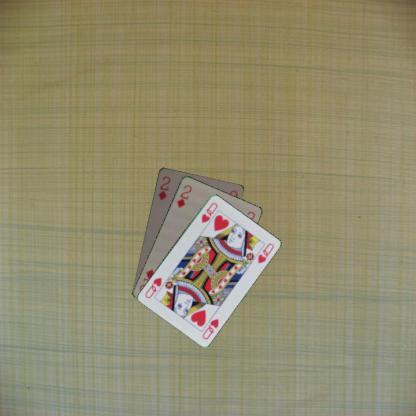2d: (174, 182, 193, 209), (156, 173, 172, 202)
Qh: (199, 316, 220, 340), (199, 199, 219, 224)
